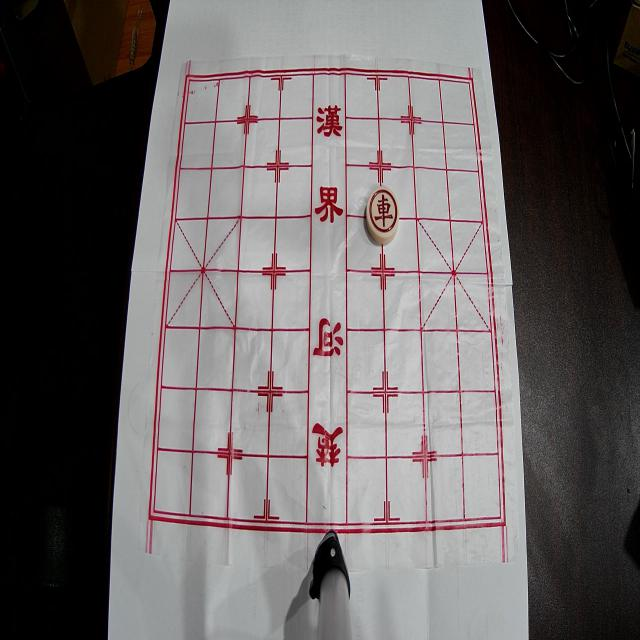red-chariot: (366, 187, 399, 244)
